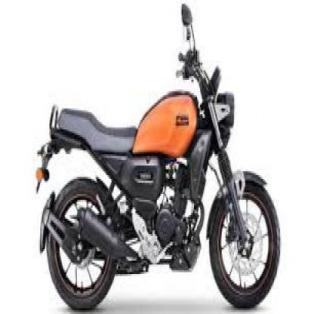Motocicleta: (29, 2, 283, 313)
